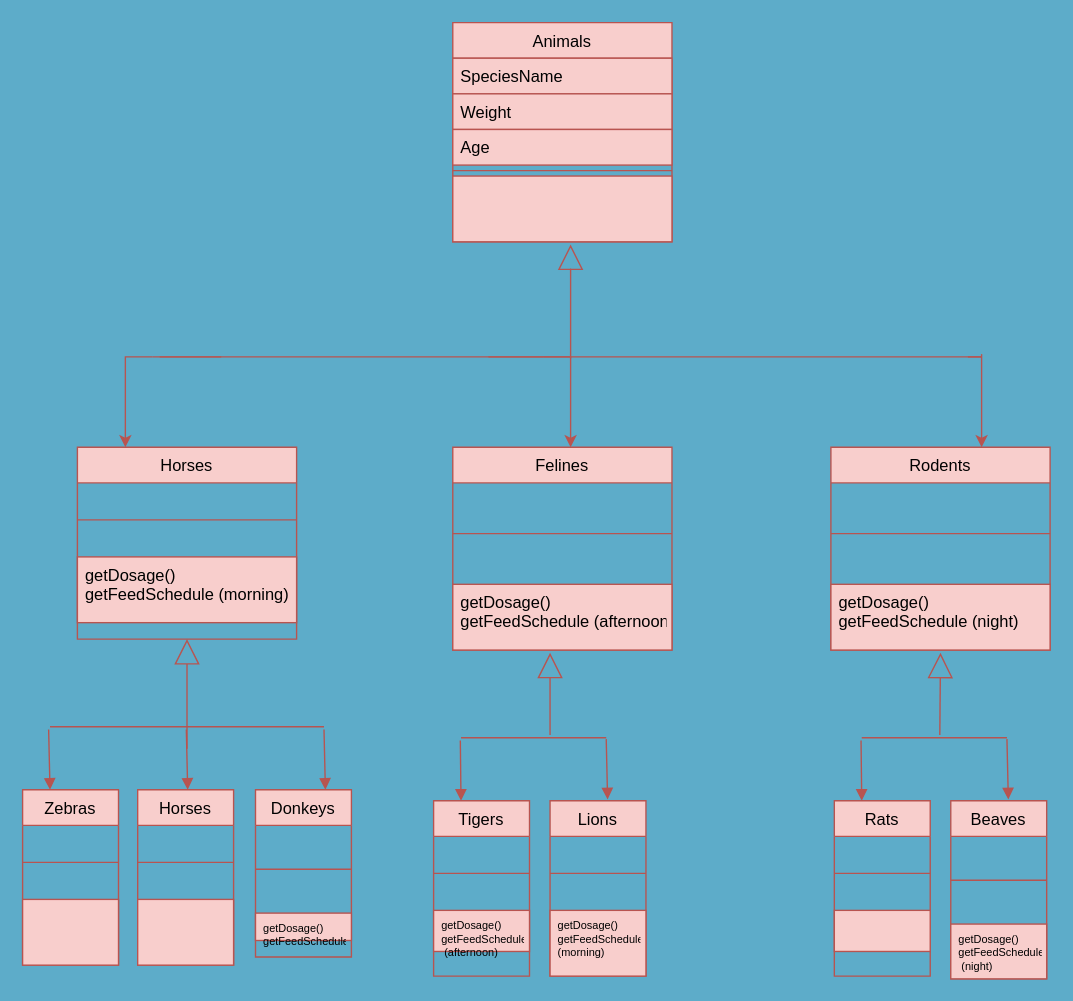
Image size: 1073x1001. Some labels were removed from this diagram. The shapes that lost their labels are listed below. From the top down, each one's centre as x and y in pixels, then its label:
At [561,208]: "getDosage() getFeedSchedule ()".
At [70,931]: "getDosage() getFeedSchedule (evening)".
At [185,931]: "getDosage() getFeedSchedule (mornşng)".
At [881,930]: "getDosage() getFeedSchedule (everytime)".
